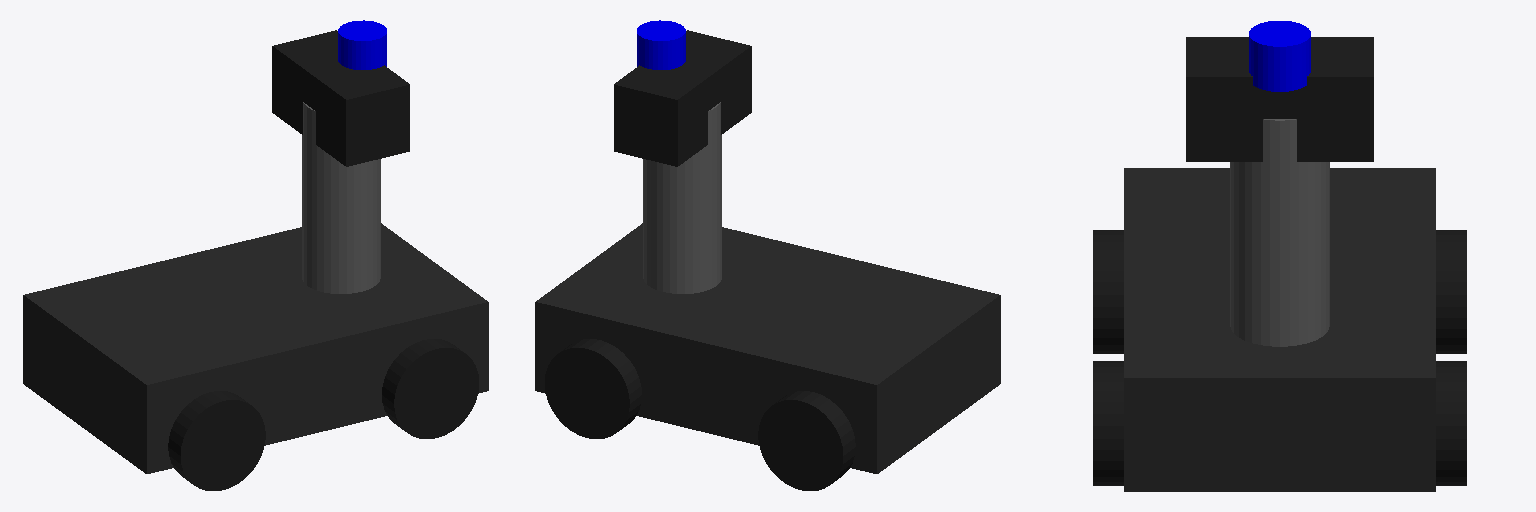
URDF robot description (skyhunter_pro_v3):
<?xml version="1.0" ?>
<robot name="skyhunter_pro_v3">

  <!-- MATERIAL DEFINITIONS -->
  <material name="dark_grey"><color rgba="0.2 0.2 0.2 1.0"/></material>
  <material name="light_grey"><color rgba="0.4 0.4 0.4 1.0"/></material>
  <material name="black"><color rgba="0.15 0.15 0.15 1.0"/></material>
  <material name="sensor_blue"><color rgba="0.0 0.0 1.0 1.0"/></material>

  <!-- BASE LINK (Center of the robot footprint on ground) -->
  <link name="base_link"/>

  <!-- CHASSIS LINK -->
  <link name="chassis_link">
    <visual>
      <geometry><box size="0.8 0.5 0.2"/></geometry>
      <material name="dark_grey"/>
    </visual>
    <collision>
      <geometry><box size="0.8 0.5 0.2"/></geometry>
    </collision>
    <inertial>
      <mass value="25.0"/>
      <origin xyz="0 0 0" rpy="0 0 0"/>
      <inertia ixx="1.0" ixy="0.0" ixz="0.0" iyy="2.5" iyz="0.0" izz="2.5"/>
    </inertial>
  </link>
  <joint name="chassis_joint" type="fixed">
    <parent link="base_link"/>
    <child link="chassis_link"/>
    <origin xyz="0 0 0.15" rpy="0 0 0"/> <!-- Raised slightly to clear wheels -->
  </joint>

  <!-- ====================== WHEELS ====================== -->
  <!-- Wheels are positioned relative to base_link/chassis -->
  
  <link name="left_wheel_front">
    <visual><origin rpy="1.5707 0 0"/><geometry><cylinder radius="0.1" length="0.05"/></geometry><material name="black"/></visual>
    <collision><origin rpy="1.5707 0 0"/><geometry><cylinder radius="0.1" length="0.05"/></geometry></collision>
    <inertial><mass value="2"/><inertia ixx="0.1" ixy="0" ixz="0" iyy="0.1" iyz="0" izz="0.1"/></inertial>
  </link>
  <joint name="left_wheel_front_joint" type="continuous">
    <parent link="chassis_link"/>
    <child link="left_wheel_front"/>
    <origin xyz="0.25 0.275 -0.05" rpy="0 0 0"/> <!-- Lowered relative to chassis -->
    <axis xyz="0 1 0"/>
  </joint>

  <link name="left_wheel_rear">
    <visual><origin rpy="1.5707 0 0"/><geometry><cylinder radius="0.1" length="0.05"/></geometry><material name="black"/></visual>
    <collision><origin rpy="1.5707 0 0"/><geometry><cylinder radius="0.1" length="0.05"/></geometry></collision>
    <inertial><mass value="2"/><inertia ixx="0.1" ixy="0" ixz="0" iyy="0.1" iyz="0" izz="0.1"/></inertial>
  </link>
  <joint name="left_wheel_rear_joint" type="continuous">
    <parent link="chassis_link"/>
    <child link="left_wheel_rear"/>
    <origin xyz="-0.25 0.275 -0.05" rpy="0 0 0"/>
    <axis xyz="0 1 0"/>
  </joint>

  <link name="right_wheel_front">
    <visual><origin rpy="1.5707 0 0"/><geometry><cylinder radius="0.1" length="0.05"/></geometry><material name="black"/></visual>
    <collision><origin rpy="1.5707 0 0"/><geometry><cylinder radius="0.1" length="0.05"/></geometry></collision>
    <inertial><mass value="2"/><inertia ixx="0.1" ixy="0" ixz="0" iyy="0.1" iyz="0" izz="0.1"/></inertial>
  </link>
  <joint name="right_wheel_front_joint" type="continuous">
    <parent link="chassis_link"/>
    <child link="right_wheel_front"/>
    <origin xyz="0.25 -0.275 -0.05" rpy="0 0 0"/>
    <axis xyz="0 1 0"/>
  </joint>

  <link name="right_wheel_rear">
    <visual><origin rpy="1.5707 0 0"/><geometry><cylinder radius="0.1" length="0.05"/></geometry><material name="black"/></visual>
    <collision><origin rpy="1.5707 0 0"/><geometry><cylinder radius="0.1" length="0.05"/></geometry></collision>
    <inertial><mass value="2"/><inertia ixx="0.1" ixy="0" ixz="0" iyy="0.1" iyz="0" izz="0.1"/></inertial>
  </link>
  <joint name="right_wheel_rear_joint" type="continuous">
    <parent link="chassis_link"/>
    <child link="right_wheel_rear"/>
    <origin xyz="-0.25 -0.275 -0.05" rpy="0 0 0"/>
    <axis xyz="0 1 0"/>
  </joint>
  
  <!-- ====================== SENSOR MAST/TURRET (IMPROVED) ====================== -->
  
  <!-- Turret Base: Raised higher to clear chassis -->
  <link name="turret_base_link">
    <visual><geometry><cylinder radius="0.08" length="0.4"/></geometry><origin xyz="0 0 0.2"/><material name="light_grey"/></visual>
    <inertial><mass value="1.0"/><inertia ixx="0.1" ixy="0" ixz="0" iyy="0.1" iyz="0" izz="0.1"/></inertial>
  </link>
  <!-- Moved slightly forward (0.2) so it's not looking at the back of the robot -->
  <joint name="turret_pan_joint" type="revolute">
    <parent link="chassis_link"/>
    <child link="turret_base_link"/>
    <origin xyz="0.2 0 0.1" rpy="0 0 0"/> 
    <axis xyz="0 0 1"/>
    <limit lower="-3.14" upper="3.14" effort="10" velocity="1.0"/>
  </joint>

  <!-- Sensor Head: The box that holds sensors -->
  <link name="sensor_head_link">
    <visual><geometry><box size="0.15 0.3 0.15"/></geometry><material name="black"/></visual>
    <inertial><mass value="1.0"/><inertia ixx="0.1" ixy="0" ixz="0" iyy="0.1" iyz="0" izz="0.1"/></inertial>
  </link>
  <joint name="turret_tilt_joint" type="revolute">
    <parent link="turret_base_link"/>
    <child link="sensor_head_link"/>
    <origin xyz="0 0 0.4" rpy="0 0 0"/>
    <axis xyz="0 1 0"/>
    <limit lower="-0.785" upper="0.785" effort="10" velocity="1.0"/>
  </joint>

  <!-- LiDAR: Moved to FRONT-TOP edge of sensor head to clear all obstructions -->
  <link name="lidar_link">
     <visual><geometry><cylinder radius="0.05" length="0.08"/></geometry><material name="sensor_blue"/></visual>
  </link>
  <joint name="lidar_joint" type="fixed">
    <parent link="sensor_head_link"/>
    <child link="lidar_link"/>
    <!-- Moved forward (x=0.05) and up (z=0.1) -->
    <origin xyz="0.05 0 0.1" rpy="0 0 0"/> 
  </joint>

  <link name="imu_link"/>
  <joint name="imu_joint" type="fixed">
    <parent link="sensor_head_link"/>
    <child link="imu_link"/>
    <origin xyz="0 0 0"/>
  </joint>

  <!-- ====================== GAZEBO SENSOR PLUGINS ====================== -->

  <gazebo reference="sensor_head_link">
    <!-- RGB CAMERA: Moved forward (x=0.08) so the lens sticks out -->
    <sensor name="camera_rgb" type="camera">
      <pose>0.08 0.1 0 0 0 0</pose> 
      <visualize>true</visualize> <!-- Turn on visualize to see the frustum in Gazebo -->
      <update_rate>30.0</update_rate>
      <camera>
        <horizontal_fov>1.396</horizontal_fov>
        <image><width>800</width><height>600</height></image>
        <clip><near>0.05</near><far>100</far></clip> <!-- Reduced near clip -->
      </camera>
      <plugin name="camera_rgb_controller" filename="libgazebo_ros_camera.so">
        <ros><remapping>image_raw:=camera/rgb/image_raw</remapping></ros>
        <frame_name>sensor_head_link</frame_name>
      </plugin>
    </sensor>

    <!-- IR CAMERA: Moved forward (x=0.08) -->
    <sensor name="camera_ir" type="camera">
      <pose>0.08 -0.1 0 0 0 0</pose>
      <visualize>false</visualize>
      <update_rate>30.0</update_rate>
      <camera>
        <horizontal_fov>1.0</horizontal_fov>
        <image><width>640</width><height>480</height><format>L8</format></image>
        <clip><near>0.05</near><far>100</far></clip>
      </camera>
      <plugin name="camera_ir_controller" filename="libgazebo_ros_camera.so">
        <ros><remapping>image_raw:=camera/ir/image_raw</remapping></ros>
        <frame_name>sensor_head_link</frame_name>
      </plugin>
    </sensor>
  </gazebo>

  <gazebo reference="lidar_link">
        <sensor name="lidar_sensor" type="ray">
          <always_on>true</always_on>
          <visualize>false</visualize>
          <update_rate>10</update_rate>
          <ray>
            <scan>
              <horizontal>
                <samples>360</samples>
                <resolution>1</resolution>
                <min_angle>-3.14</min_angle>
                <max_angle>3.14</max_angle>
              </horizontal>
              <vertical>
                <samples>16</samples>
                <resolution>1</resolution>
                <min_angle>-0.2617</min_angle>
                <max_angle>0.2617</max_angle>
              </vertical>
            </scan>
            <range>
              <min>0.3</min> <!-- Increased min range to avoid self-collision noise -->
              <max>30.0</max>
              <resolution>0.01</resolution>
            </range>
            <noise>
              <type>gaussian</type>
              <mean>0.0</mean>
              <stddev>0.01</stddev>
            </noise>
          </ray>
          <plugin name="lidar_plugin" filename="libgazebo_ros_ray_sensor.so">
            <ros><remapping>~/out:=/lidar/points</remapping></ros>
            <output_type>sensor_msgs/PointCloud2</output_type>
            <frame_name>lidar_link</frame_name>
          </plugin>
        </sensor>
      </gazebo>

  <!-- DIFFERENTIAL DRIVE CONTROLLER -->
  <gazebo>
    <plugin name="differential_drive_controller" filename="libgazebo_ros_diff_drive.so">
      <left_joint>left_wheel_rear_joint</left_joint>
      <right_joint>right_wheel_rear_joint</right_joint>
      <wheel_separation>0.55</wheel_separation>
      <wheel_diameter>0.2</wheel_diameter>
      <max_wheel_torque>200.0</max_wheel_torque>
      <max_wheel_acceleration>20.0</max_wheel_acceleration>
      <command_topic>cmd_vel</command_topic>
      <odometry_topic>odom</odometry_topic>
      <odometry_frame>odom</odometry_frame>
      <robot_base_frame>base_link</robot_base_frame>
      <publish_odom>true</publish_odom>
      <publish_odom_tf>true</publish_odom_tf>
      <update_rate>100</update_rate>
    </plugin>
  </gazebo>
  
  <gazebo>
  <plugin name="joint_state_publisher" filename="libgazebo_ros_joint_state_publisher.so">
    <ros>
        <remapping>~/out:=joint_states</remapping>
    </ros>
    <update_rate>30</update_rate>
    <joint_name>left_wheel_front_joint</joint_name>
    <joint_name>left_wheel_rear_joint</joint_name>
    <joint_name>right_wheel_front_joint</joint_name>
    <joint_name>right_wheel_rear_joint</joint_name>
    <joint_name>turret_pan_joint</joint_name>
    <joint_name>turret_tilt_joint</joint_name>
    </plugin>
  </gazebo>

  <gazebo reference="imu_link">
    <sensor name="imu_sensor" type="imu">
      <always_on>true</always_on>
      <update_rate>100</update_rate>
      <plugin name="imu_plugin" filename="libgazebo_ros_imu_sensor.so">
        <ros><remapping>~/out:=imu/data</remapping></ros>
      </plugin>
    </sensor>
  </gazebo>
  
  <gazebo reference="chassis_link">
    <sensor name="gps_sensor" type="gps">
      <update_rate>10</update_rate>
      <plugin name="gps_plugin" filename="libgazebo_ros_gps_sensor.so">
        <ros><remapping>~/out:=gps/fix</remapping></ros>
      </plugin>
    </sensor>
  </gazebo>

</robot>

--- What the picture shows (computed from the rendered views, not written in the file) ---
The picture shows the robot from 3 angles, left to right: view 1: azimuth 30°, elevation 25°; view 2: azimuth 150°, elevation 25°; view 3: azimuth 270°, elevation 25°; orthographic projection.
Model skyhunter_pro_v3 with 10 links and 9 joints (2 revolute, 4 continuous, 3 fixed), rooted at base_link, posed every joint at zero.
Visible links, largest first — view 1: chassis_link, sensor_head_link, turret_base_link, right_wheel_front, right_wheel_rear, lidar_link; view 2: chassis_link, sensor_head_link, turret_base_link, left_wheel_front, left_wheel_rear, lidar_link; view 3: chassis_link, turret_base_link, sensor_head_link, lidar_link, left_wheel_front, right_wheel_front, left_wheel_rear, right_wheel_rear.
Link boxes in pixels (left/top/right/bottom): chassis_link: left=23, top=223, right=488, bottom=473; sensor_head_link: left=272, top=30, right=409, bottom=166; turret_base_link: left=302, top=102, right=380, bottom=293; right_wheel_front: left=382, top=339, right=478, bottom=438; right_wheel_rear: left=168, top=391, right=265, bottom=490; lidar_link: left=338, top=20, right=386, bottom=69; chassis_link: left=535, top=223, right=1000, bottom=473; sensor_head_link: left=614, top=30, right=751, bottom=166; turret_base_link: left=643, top=102, right=721, bottom=293; left_wheel_front: left=545, top=339, right=641, bottom=438; left_wheel_rear: left=758, top=391, right=855, bottom=490; lidar_link: left=637, top=20, right=685, bottom=69; chassis_link: left=1124, top=168, right=1435, bottom=491; turret_base_link: left=1230, top=119, right=1329, bottom=346; sensor_head_link: left=1186, top=37, right=1373, bottom=161; lidar_link: left=1249, top=21, right=1310, bottom=91; left_wheel_front: left=1436, top=361, right=1466, bottom=485; right_wheel_front: left=1093, top=361, right=1123, bottom=485; left_wheel_rear: left=1436, top=230, right=1466, bottom=353; right_wheel_rear: left=1093, top=230, right=1123, bottom=353.
Bounding box of the posed robot: 0.8 × 0.6 × 0.79 m (x, y, z).
Geometry: primitives only (box / cylinder / sphere), no mesh files.
